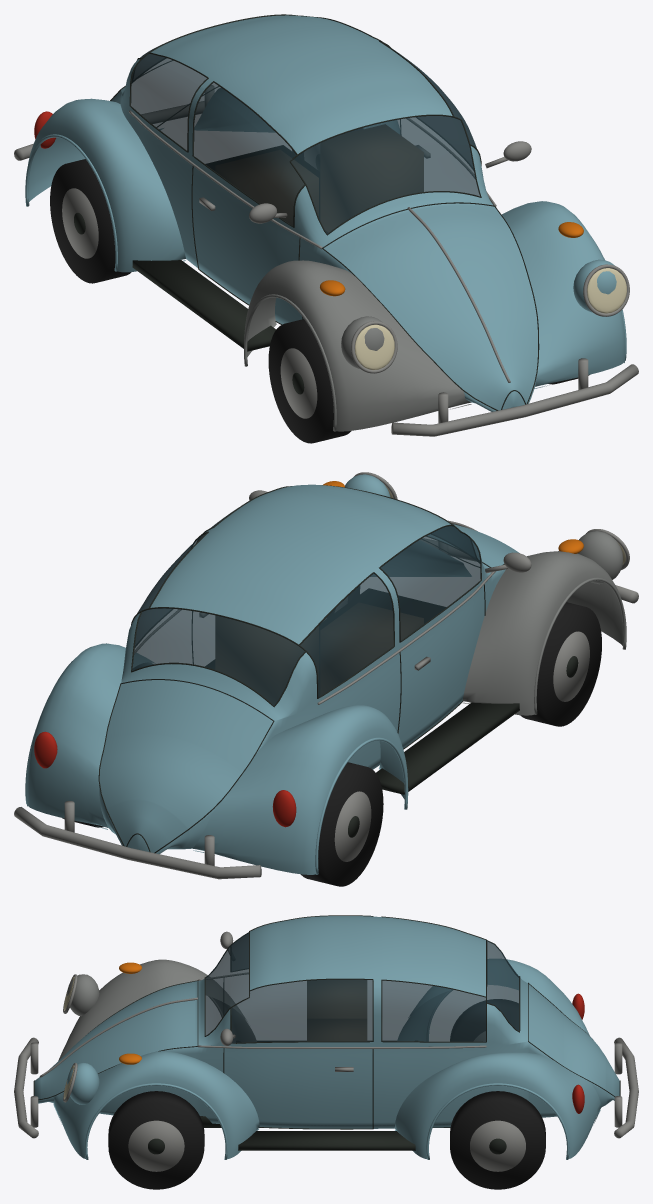
The model's file is VEH_001_Bug_Base_v01.glb.
The picture shows the model from 3 angles, top to bottom: view 1: azimuth 30°, elevation 25°; view 2: azimuth 150°, elevation 25°; view 3: azimuth 270°, elevation 25°; orthographic projection. The views are drawn at different scales.
Parts seen in each view (by area): view 1: BODY_Cabin_Roof, BODY_Hood_Front, BODY_Fender_FL, GLASS_Windshield, BODY_Fender_FR, BODY_Fender_RL, GLASS_Door_L, BODY_Door_L, INTERIOR_Seat_R, TRIM_RunningBoard_L, WHEEL_FL_Tire, WHEEL_RL_Tire (+19 smaller); view 2: BODY_Cabin_Roof, BODY_Engine_Lid_Rear, BODY_Fender_RL, BODY_Fender_FL, BODY_Fender_RR, GLASS_RearWindow, BODY_Door_L, GLASS_Door_L, GLASS_Quarter_L, INTERIOR_Seat_R, INTERIOR_Seat_L, TRIM_RunningBoard_L (+20 smaller); view 3: BODY_Cabin_Roof, BODY_Door_R, BODY_Fender_RR, BODY_Fender_FR, GLASS_Door_R, BODY_Main, BODY_Hood_Front, GLASS_Quarter_R, BODY_Fender_FL, WHEEL_FR_Tire, WHEEL_RR_Tire, BODY_Engine_Lid_Rear (+20 smaller).
Part boxes in pixels (x1,y1,x2,y2): BODY_Cabin_Roof: (121,15,492,246); BODY_Hood_Front: (323,203,537,410); BODY_Fender_FL: (244,260,471,431); GLASS_Windshield: (291,116,479,233); BODY_Fender_FR: (502,201,625,388); BODY_Fender_RL: (28,98,185,272); GLASS_Door_L: (193,82,304,226); BODY_Door_L: (192,166,302,324); INTERIOR_Seat_R: (320,124,423,232); TRIM_RunningBoard_L: (132,260,276,351); WHEEL_FL_Tire: (268,319,351,443); WHEEL_RL_Tire: (50,159,131,283); BODY_Cabin_Roof: (121,484,491,720); BODY_Engine_Lid_Rear: (99,680,272,852); BODY_Fender_RL: (193,705,408,874); BODY_Fender_FL: (462,531,623,715); BODY_Fender_RR: (26,643,153,829); GLASS_RearWindow: (132,608,304,705); BODY_Door_L: (398,585,484,748); GLASS_Door_L: (381,526,480,640); GLASS_Quarter_L: (300,573,393,697); INTERIOR_Seat_R: (215,616,318,705); INTERIOR_Seat_L: (320,603,423,695); TRIM_RunningBoard_L: (376,702,519,794); BODY_Cabin_Roof: (198,916,527,1046); BODY_Door_R: (224,1048,372,1128); BODY_Fender_RR: (394,1052,601,1158); BODY_Fender_FR: (53,1051,259,1159); GLASS_Door_R: (231,979,372,1043); BODY_Main: (99,1041,545,1128); BODY_Hood_Front: (34,981,197,1099); GLASS_Quarter_R: (382,980,485,1041); BODY_Fender_FL: (58,959,256,1060); WHEEL_FR_Tire: (108,1091,204,1189); WHEEL_RR_Tire: (450,1091,545,1189); BODY_Engine_Lid_Rear: (528,984,619,1096).
Bounding box in the file's own units: 1.84 × 1.55 × 4.36.
